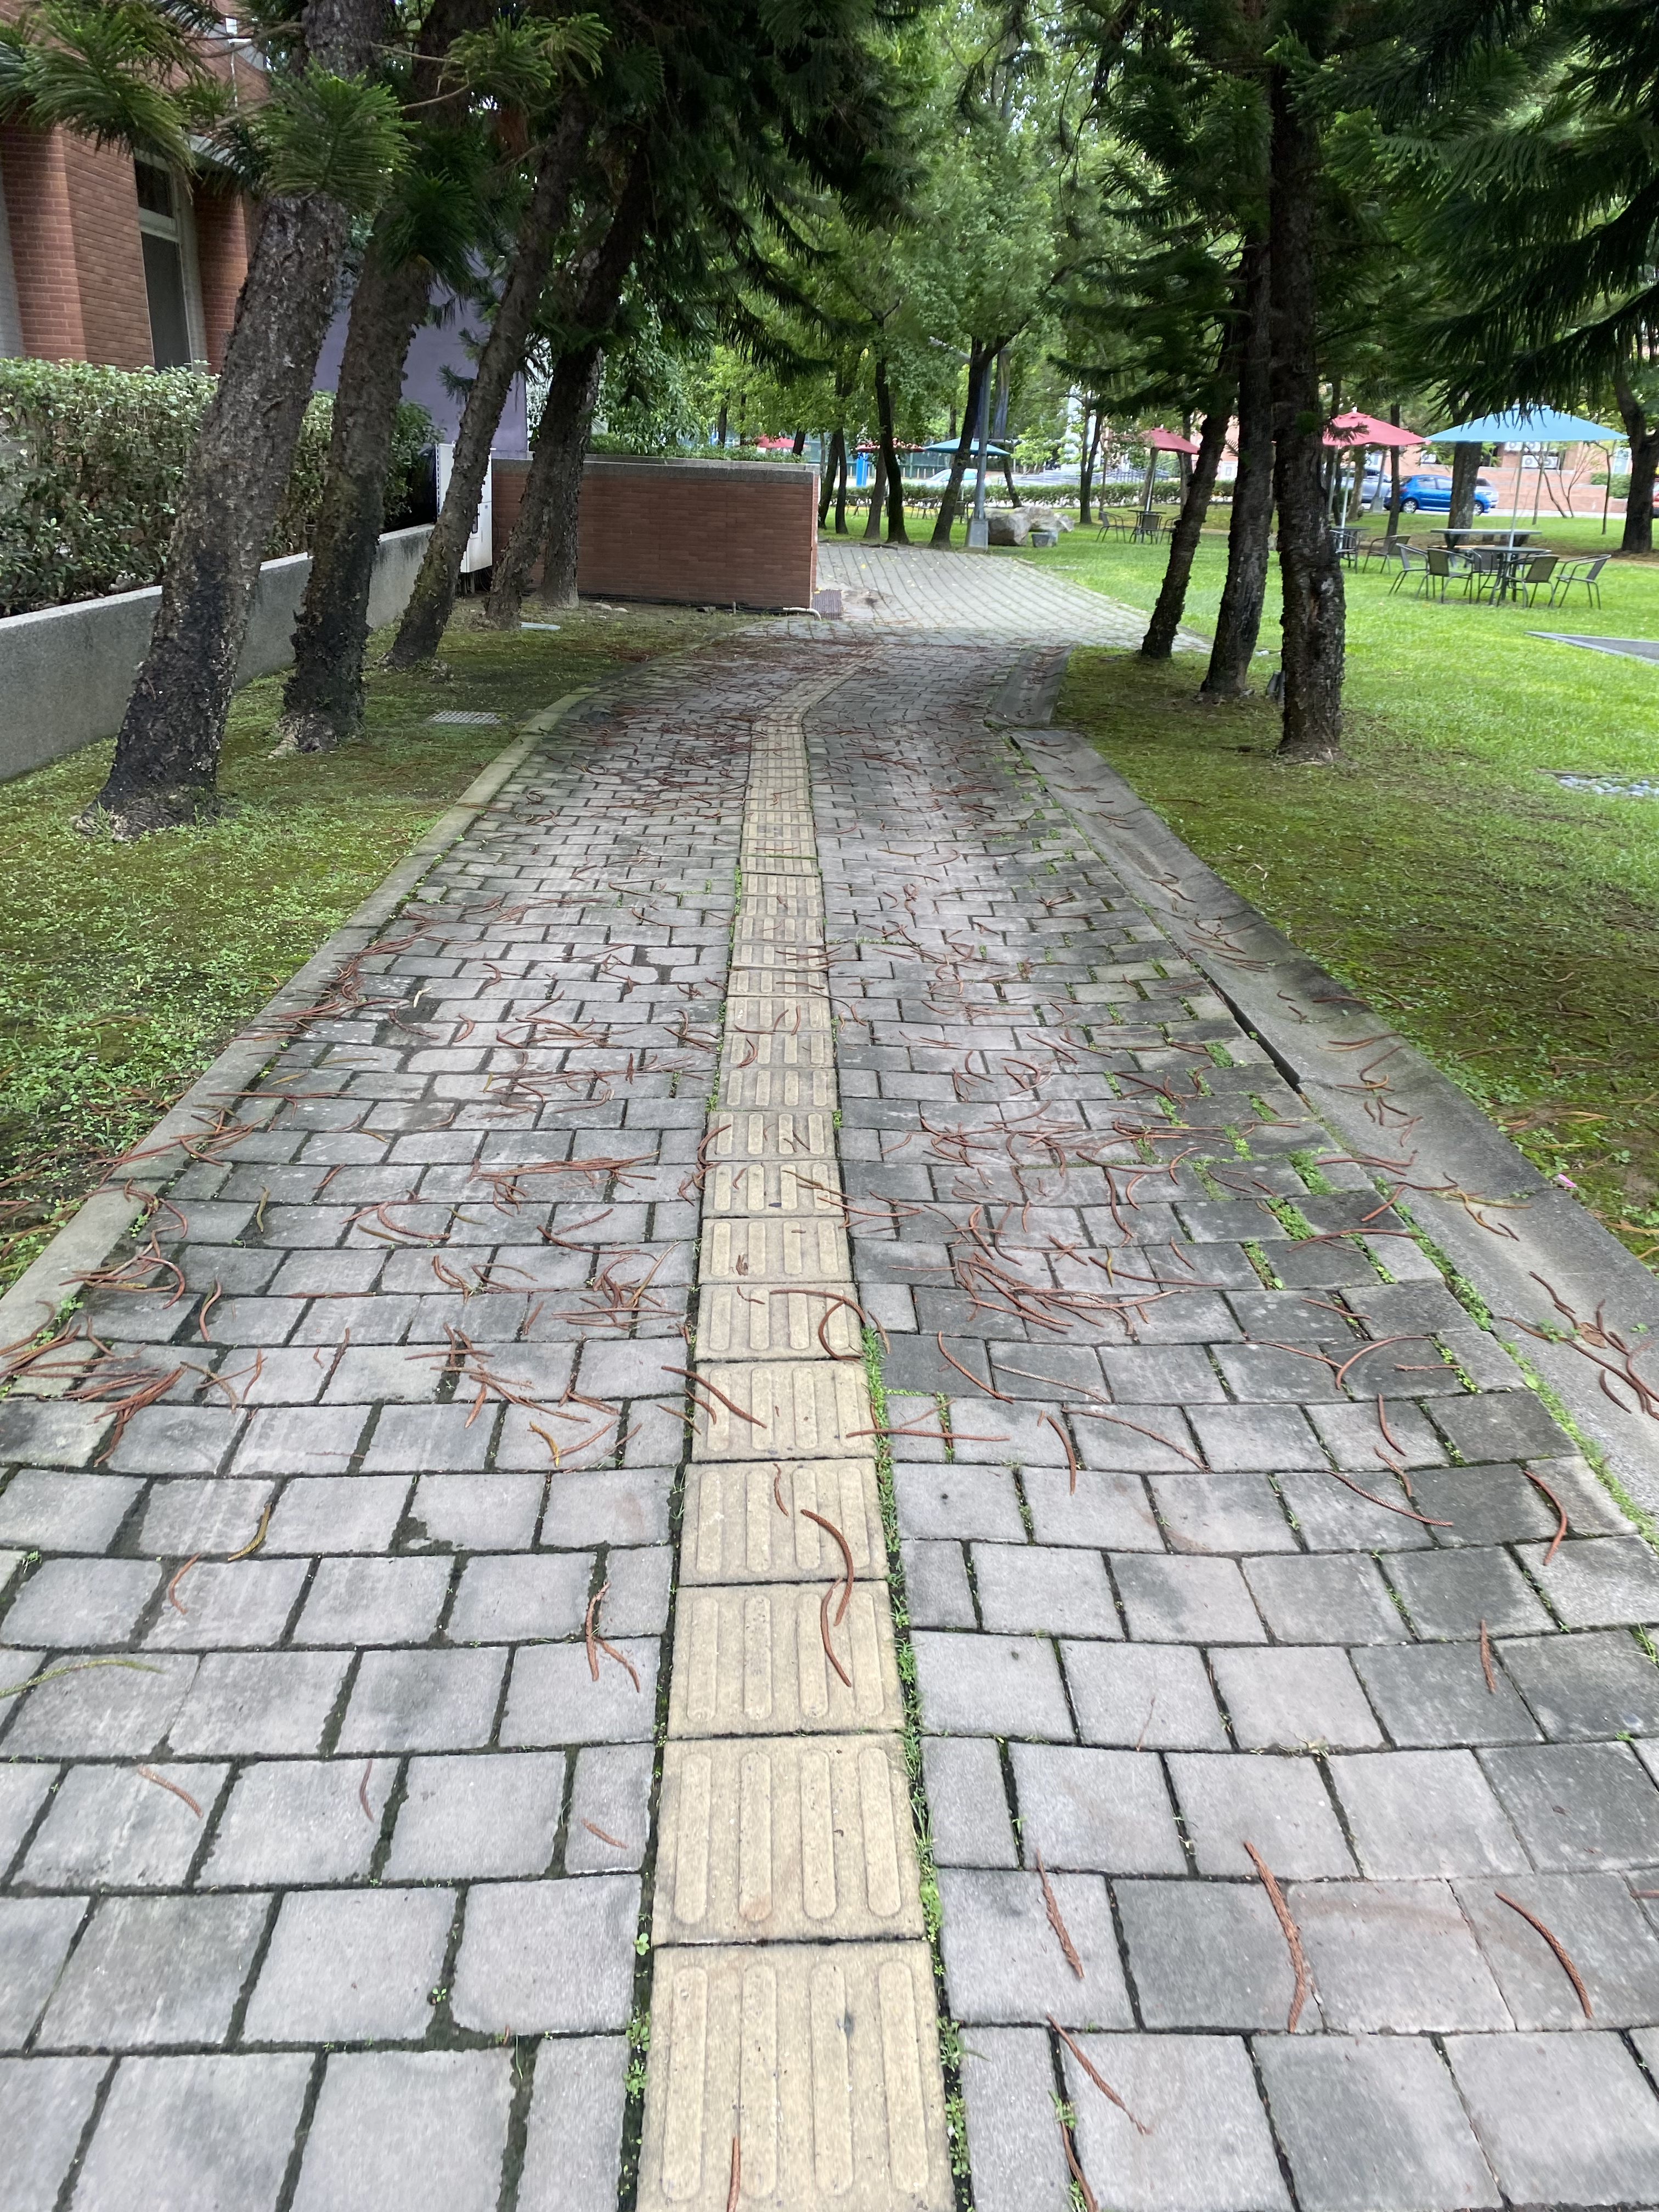sidewalk: (0, 404, 1659, 2212)
